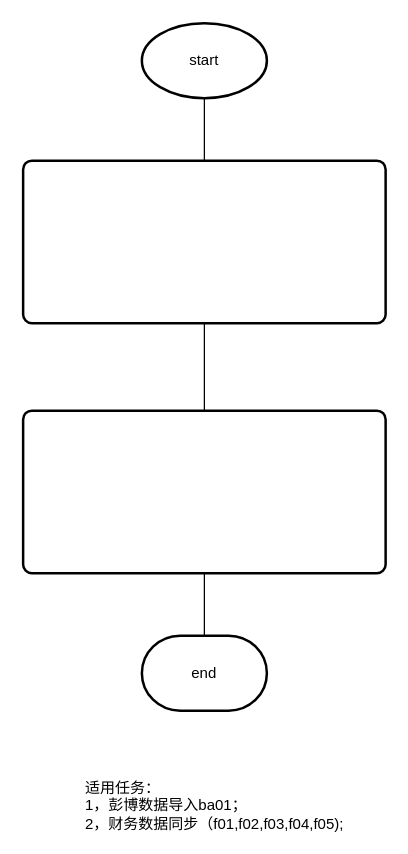
Image size: 408x854. Some labels were removed from this diagram. Each missing label, with the centre of its shape:
"封装任务执行结果，返回" belongs at point 203,491.
"将彭博调整表中的数据迁移至历史表中，获取彭博原始数据插入到彭博调整表中" belongs at point 203,241.
